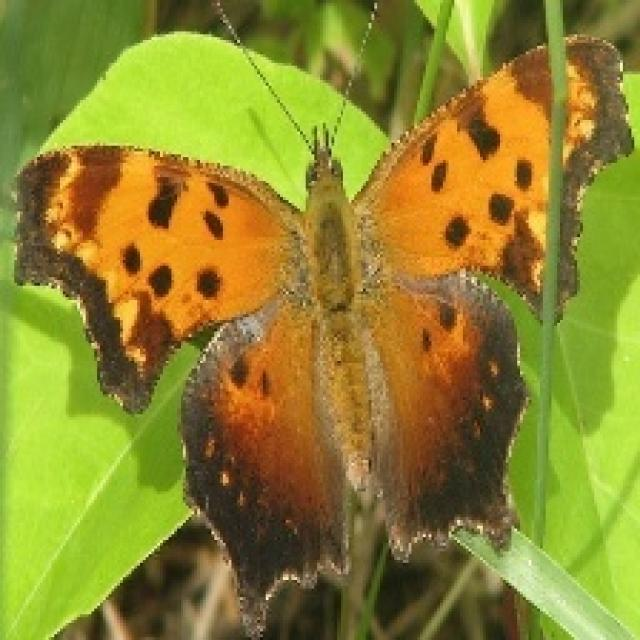butterfly: (8, 0, 634, 574)
